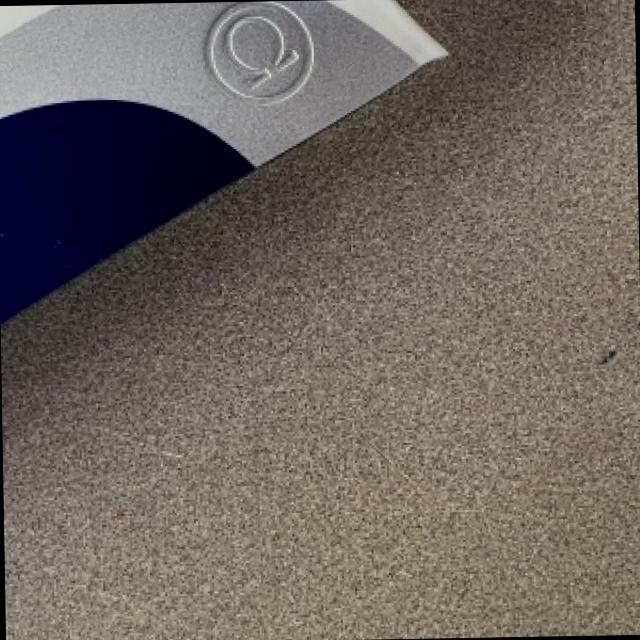healthy: (0, 0, 441, 319), (206, 1, 309, 101)
